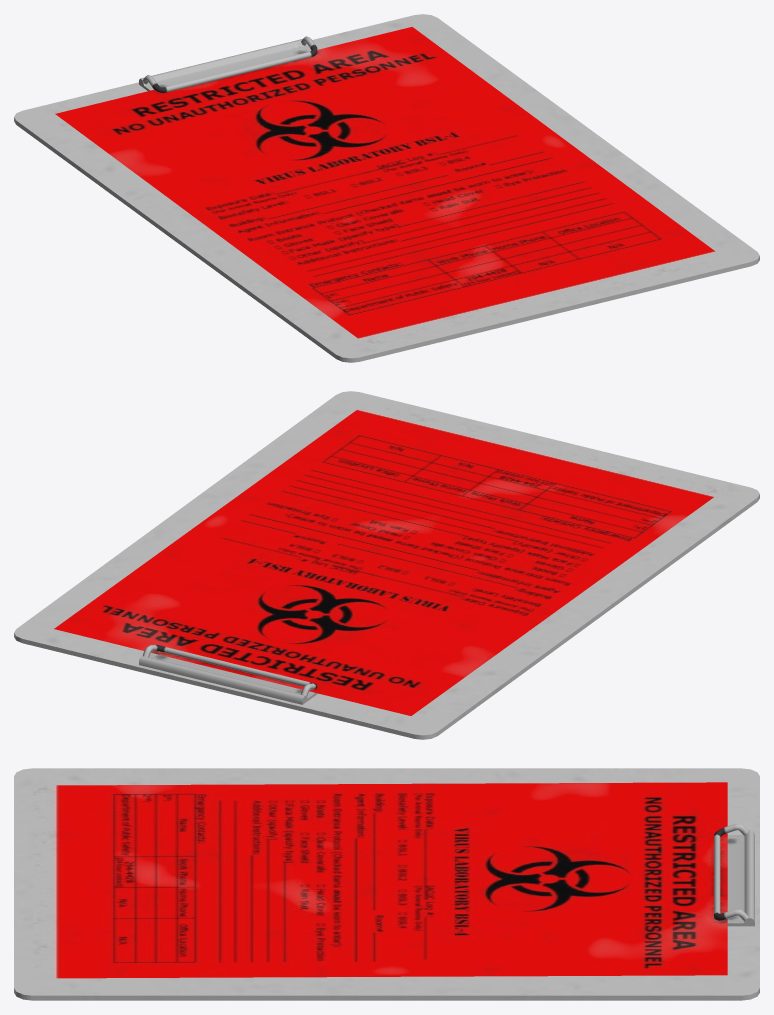
The model's file is NoticePaper.fbx.
The picture shows the model from 3 angles, top to bottom: view 1: azimuth 30°, elevation 25°; view 2: azimuth 150°, elevation 25°; view 3: azimuth 270°, elevation 25°; orthographic projection. The views are drawn at different scales.
Visible parts, largest first — view 1: Informartion_paper_NakedSingularity; view 2: Informartion_paper_NakedSingularity; view 3: Informartion_paper_NakedSingularity.
Part boxes in pixels (box(x1,y1,x2,y2)): Informartion_paper_NakedSingularity: box(14, 14, 759, 362); Informartion_paper_NakedSingularity: box(14, 391, 759, 739); Informartion_paper_NakedSingularity: box(14, 768, 759, 1000).
Size of the model in its own units: 30.21 by 1.25 by 41.87.
